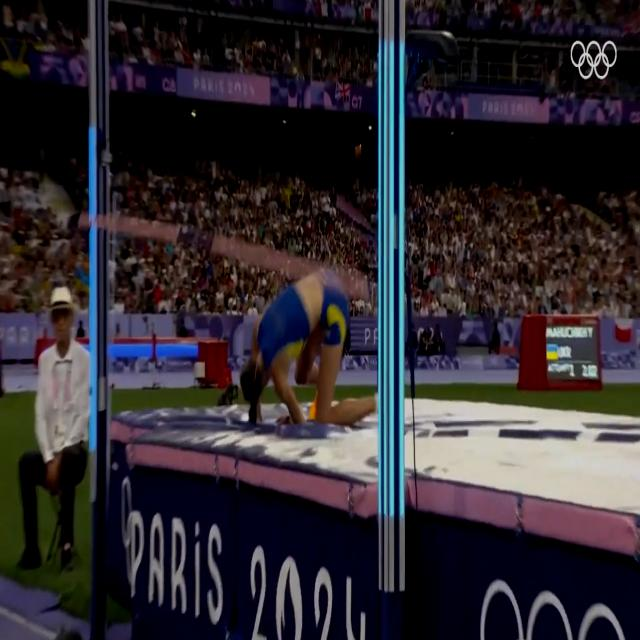land: (240, 267, 378, 433)
